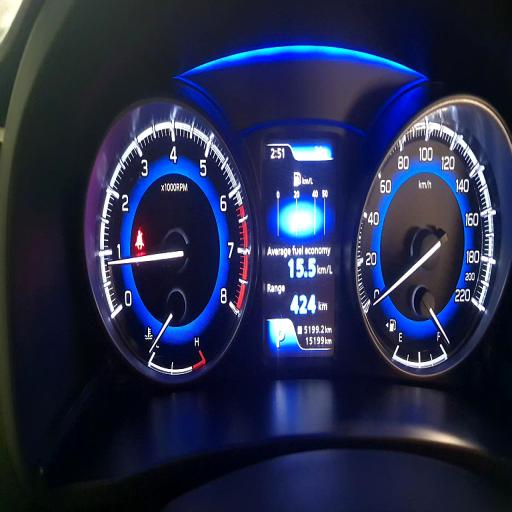belt: (134, 227, 144, 251)
tachometer: (100, 120, 249, 374)
